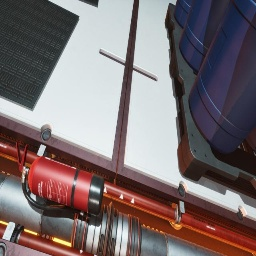FireExtinguisher ]: (16, 141, 104, 221)
